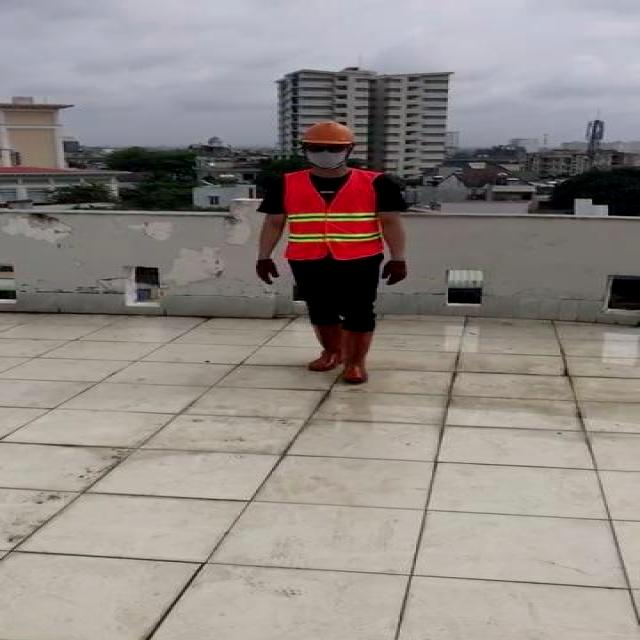boots: (338, 328, 378, 385), (308, 320, 342, 369)
face_mask: (299, 140, 353, 170)
glasses: (302, 141, 349, 156)
hand_glove: (380, 260, 409, 286), (255, 260, 278, 285)
head_helmet: (298, 120, 358, 146)
person: (252, 120, 414, 388)
vest: (282, 167, 380, 262)
